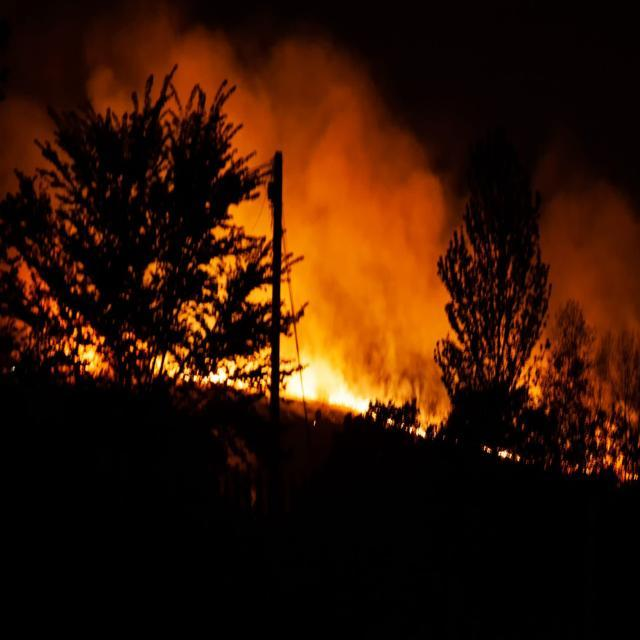Smoke: (0, 0, 566, 445)
